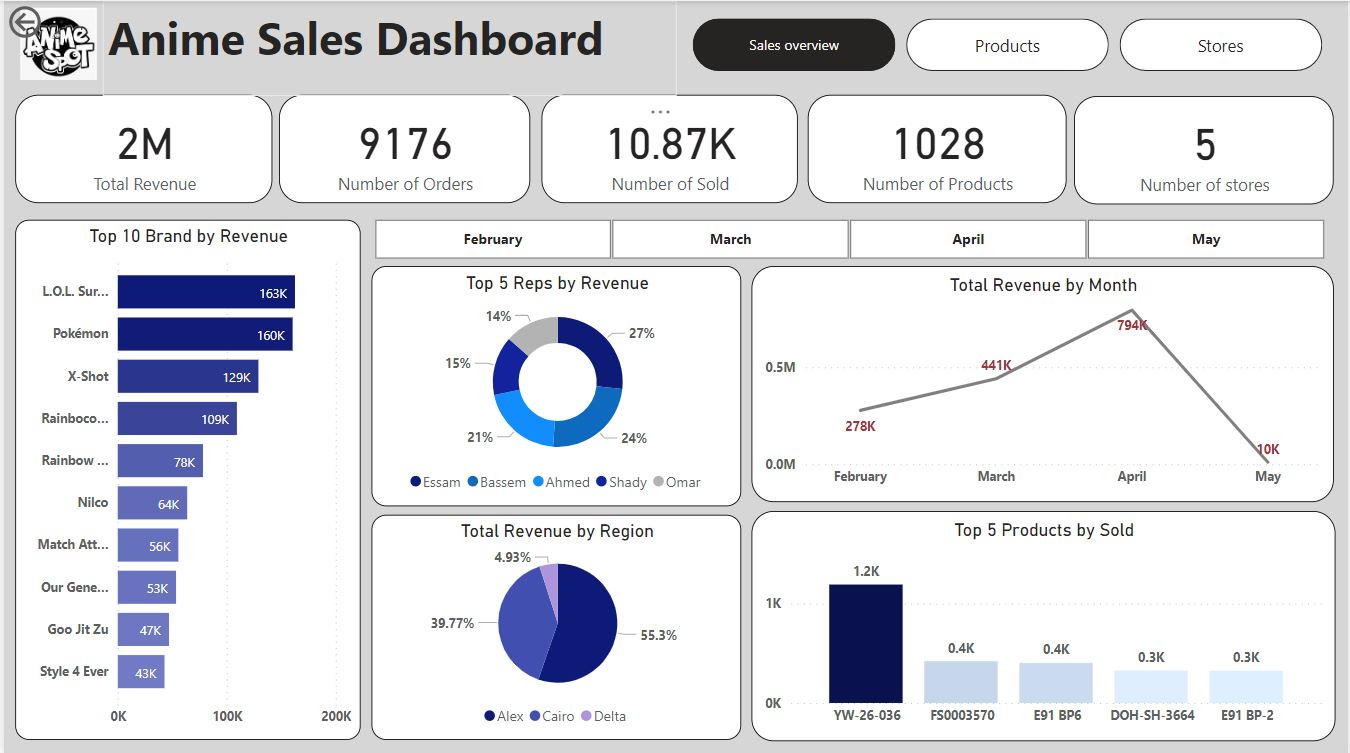

What the dashboard file says about the page in this screenshot:
{"tool":"powerbi","page":{"name":"Sales overview","canvas":[1280,720],"ordinal":0},"visuals":[{"type":"card","fields":{"Values":["_Measures.Total Revenue"]},"box":[260,90,245,103.8],"z":0},{"type":"card","fields":{"Values":["_Measures.Number of Months"]},"box":[1020,90,246.2,103.8],"z":1000},{"type":"lineChart","title":"Total Revenue by Month","fields":{"Category":["SalesFact.TransactionTime.Variation.Date Hierarchy.Month","SalesFact.TransactionTime.Variation.Date Hierarchy.Day"],"Y":["SalesFact.Revenue2"]},"box":[711.7,252.3,554.6,224.9],"z":2000},{"type":"barChart","title":"Top 10 Brand by Revenue","fields":{"Category":["ProductDim.Brand"],"Y":["SalesFact.Revenue2"]},"box":[10.7,208.3,328.5,495.1],"z":3000},{"type":"card","fields":{"Values":["_Measures.Number of Sold"]},"box":[767.5,90,243.8,103.8],"z":4000},{"type":"card","fields":{"Values":["_Measures.Number of Orders"]},"box":[12.5,90,240,103.8],"z":5000},{"type":"pieChart","title":"Total Revenue by Region","fields":{"Category":["StoresDim2.Region"],"Y":["SalesFact.Revenue2"]},"box":[349.9,489.1,352.3,214.2],"z":6000},{"type":"card","fields":{"Values":["_Measures.Avg Revenue"]},"box":[512.5,90,247.5,103.8],"z":7000},{"type":"textbox","box":[94,0,546.2,90.4],"z":8000},{"type":"image","box":[11.2,0,82.5,81.2],"z":9000},{"type":"pageNavigator","box":[656.2,16.2,600,50],"z":10000},{"type":"donutChart","title":"Top 5 Reps by Revenue","fields":{"Category":["RepsDim.RepName"],"Y":["SalesFact.OrderNumer"]},"box":[349.9,252.3,352.3,228.5],"z":11000},{"type":"columnChart","title":"Top 5 Products by Sold","fields":{"Category":["ProductDim.ProductCode"],"Y":["SalesFact.Sold"]},"box":[711.7,485.6,555.8,219],"z":12000},{"type":"slicer","fields":{"Values":["SalesFact.TransactionTime.Variation.Date Hierarchy.Month"]},"box":[327.3,201.1,953.3,51.2],"z":13000},{"type":"actionButton","box":[0,0,100,40],"z":14000}]}

Visuals, with their boxes in screenshot pixels (x1, y1, x2, y2), scaled from the page's 1280x720 canvas onto the 1350x753 screenshot:
card - _Measures.Total Revenue: region(274, 94, 533, 203)
card - _Measures.Number of Months: region(1076, 94, 1335, 203)
"Total Revenue by Month" lineChart: region(751, 264, 1336, 499)
"Top 10 Brand by Revenue" barChart: region(11, 218, 358, 736)
card - _Measures.Number of Sold: region(809, 94, 1067, 203)
card - _Measures.Number of Orders: region(13, 94, 266, 203)
"Total Revenue by Region" pieChart: region(369, 512, 741, 736)
card - _Measures.Avg Revenue: region(541, 94, 802, 203)
textbox: region(99, 0, 675, 95)
image: region(12, 0, 99, 85)
pageNavigator: region(692, 17, 1325, 69)
"Top 5 Reps by Revenue" donutChart: region(369, 264, 741, 503)
"Top 5 Products by Sold" columnChart: region(751, 508, 1337, 737)
slicer - SalesFact.TransactionTime.Variation.Date Hierarchy.Month: region(345, 210, 1349, 264)
actionButton: region(0, 0, 105, 42)
